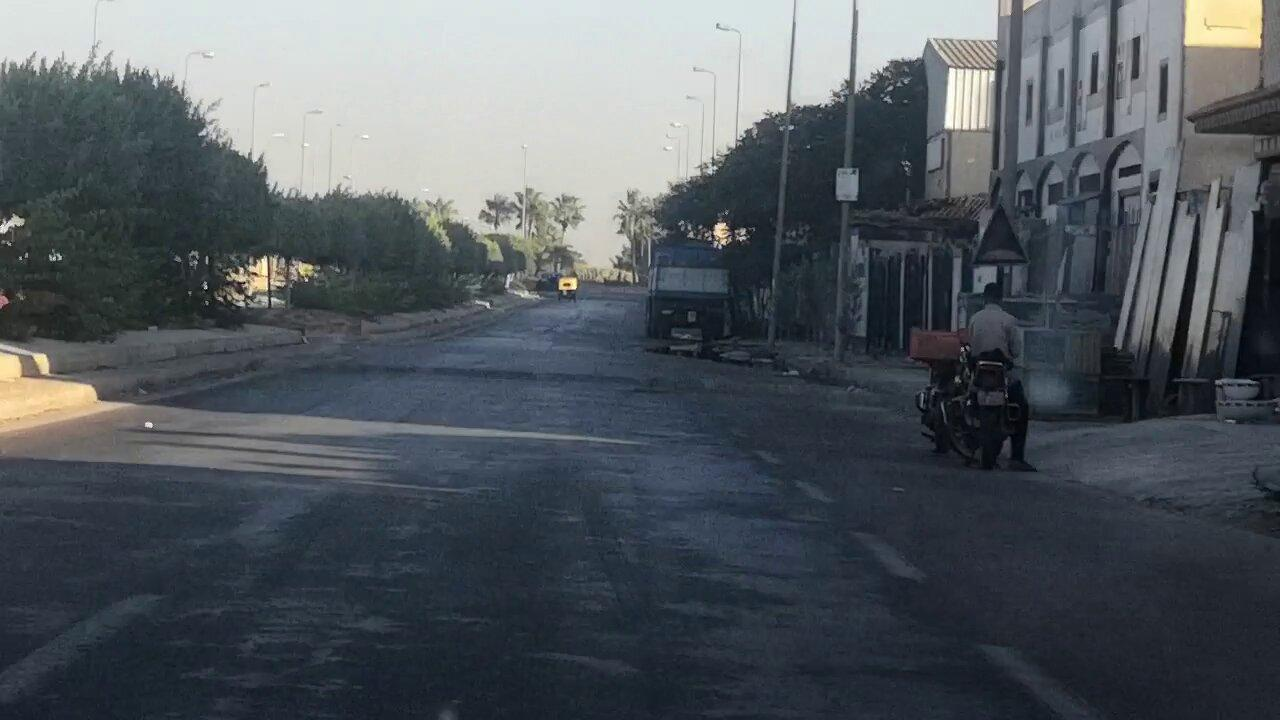Bump: (332, 360, 732, 398)
